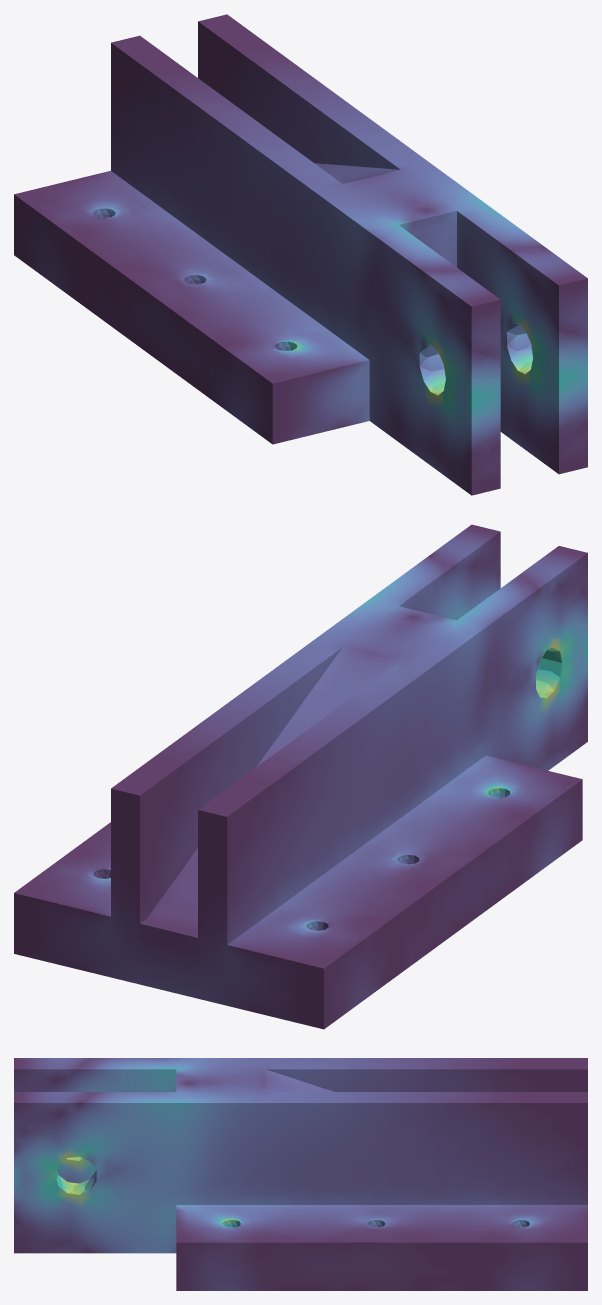
File: CAD_F-CLV-MS.glb
3 views of the same model, one above another, from view 1: azimuth 30°, elevation 25°; view 2: azimuth 150°, elevation 25°; view 3: azimuth 270°, elevation 25° (orthographic). The views are drawn at different scales.
Visible parts, largest first — view 1: geometry_0; view 2: geometry_0; view 3: geometry_0.
Part boxes in pixels (box(x1,y1,x2,y2)): geometry_0: box(14, 14, 587, 495); geometry_0: box(14, 524, 587, 1029); geometry_0: box(14, 1058, 587, 1290).
Bounding box in the file's own units: 0.128 × 0.0745 × 0.258.
